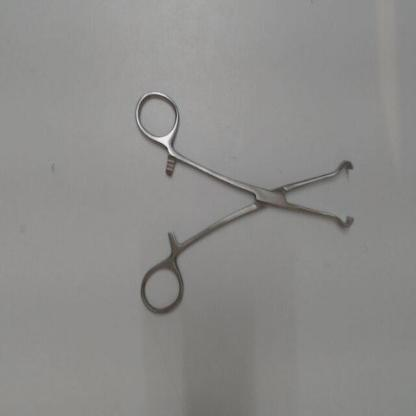Babcock Tissue Forceps: (130, 84, 359, 322)
